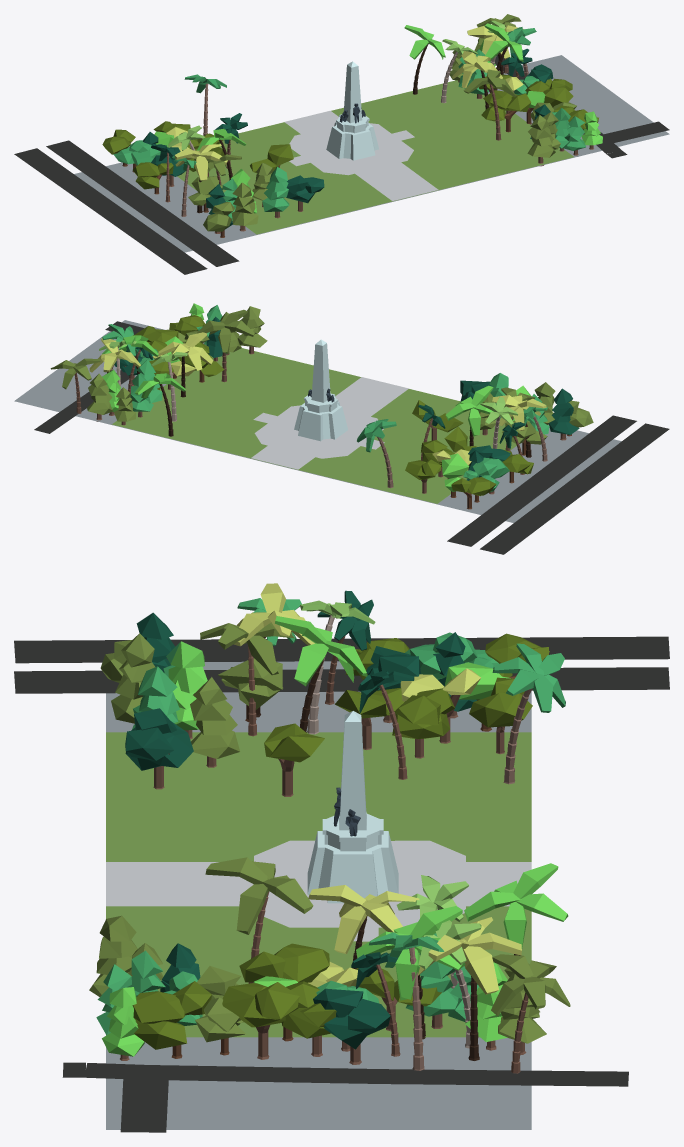
File: PY_Env2.fbx
3 renders of one model, top to bottom at view 1: azimuth 30°, elevation 25°; view 2: azimuth 150°, elevation 25°; view 3: azimuth 270°, elevation 25°, orthographic. The views are drawn at different scales.
Visible parts, largest first — view 1: PY_Env2; view 2: PY_Env2; view 3: PY_Env2.
Boxes of the visible parts, x1,y1,x2,y2 form: PY_Env2: (14, 14, 669, 274); PY_Env2: (14, 303, 669, 554); PY_Env2: (14, 583, 669, 1132).
Size of the model in its own units: 8131 by 1366 by 4545.
